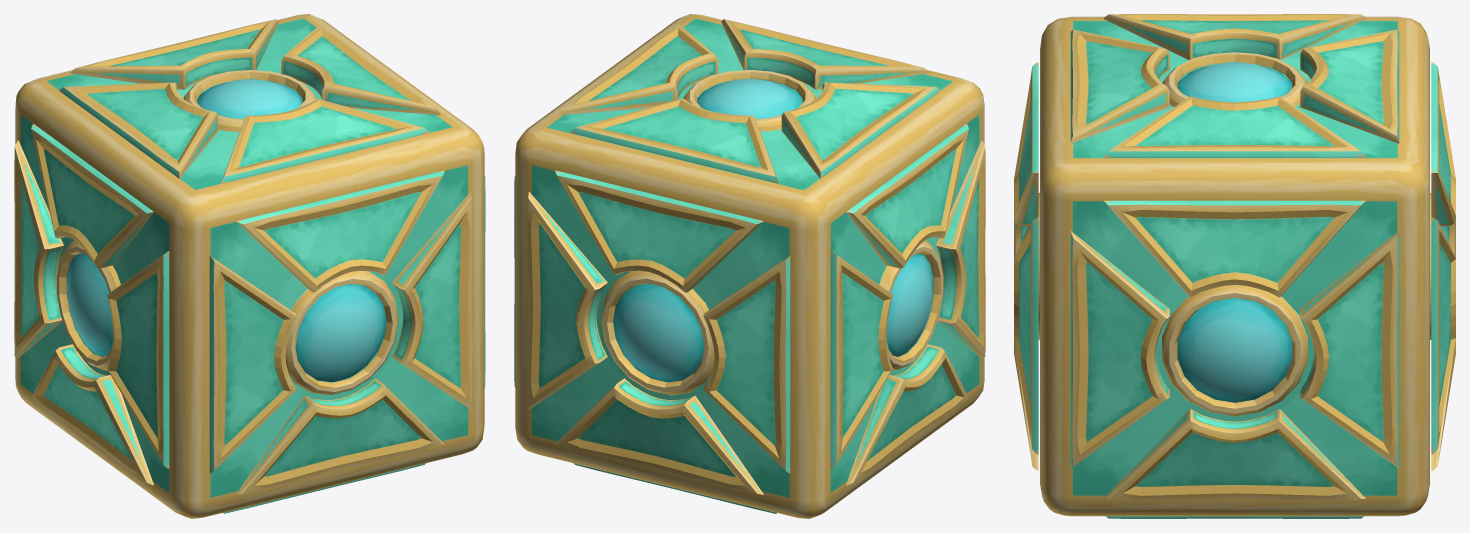
Rendered from SM_CubeMobile.FBX.
3 renders of one model, left to right at view 1: azimuth 30°, elevation 25°; view 2: azimuth 150°, elevation 25°; view 3: azimuth 270°, elevation 25°, orthographic. The views are drawn at different scales.
Parts seen in each view (by area): view 1: Box001; view 2: Box001; view 3: Box001.
Boxes of the visible parts, bbox=[...] form: Box001: bbox=[14, 14, 485, 518]; Box001: bbox=[514, 14, 985, 518]; Box001: bbox=[1014, 14, 1455, 518].
Size of the model in its own units: 215 by 215 by 215.
